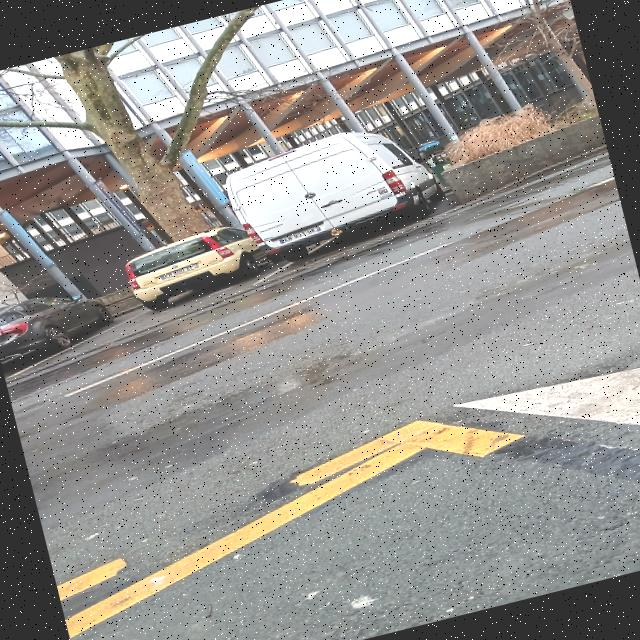EU: (278, 225, 321, 244), (158, 263, 198, 280)
France: (278, 238, 284, 244), (160, 275, 164, 280)
